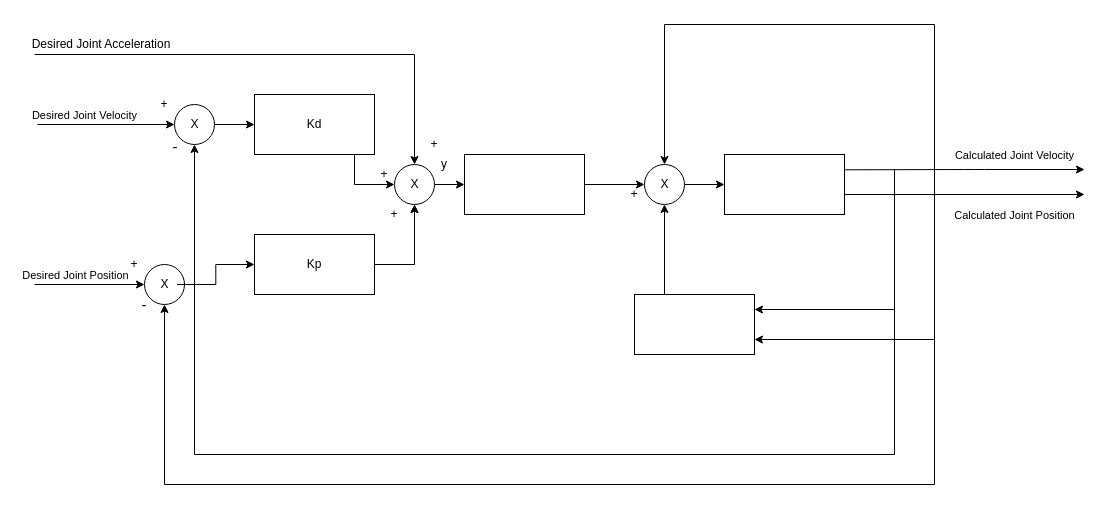
Image size: 1110x510. Some labels were removed from this diagram. The box of each missing label's shape, as (x1, y1, x2, y2) in pixels:
Calculate C and G Vectors: (634, 294, 754, 354)
Forward Dynamics: (724, 154, 844, 214)
M(q): (464, 154, 584, 214)
